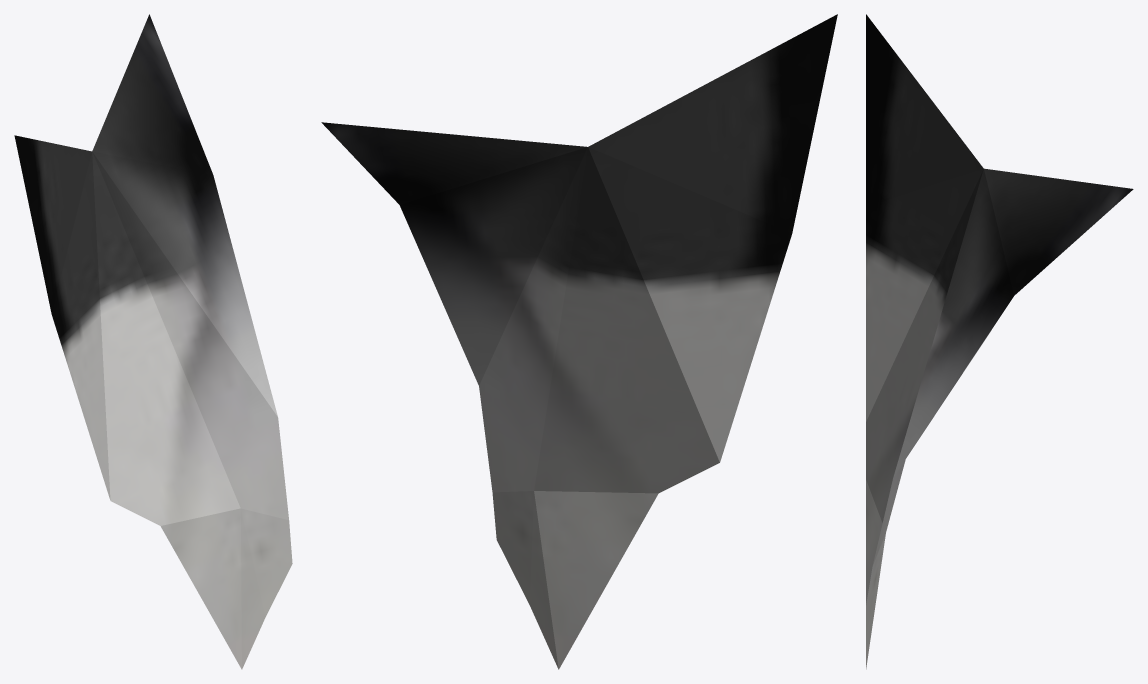
3 renders of one model, left to right at view 1: azimuth 30°, elevation 25°; view 2: azimuth 150°, elevation 25°; view 3: azimuth 270°, elevation 25°, orthographic. The views are drawn at different scales.
Size of the model in its own units: 3.63 by 7.35 by 3.23.
Materials: 1 (1 with a texture image).
